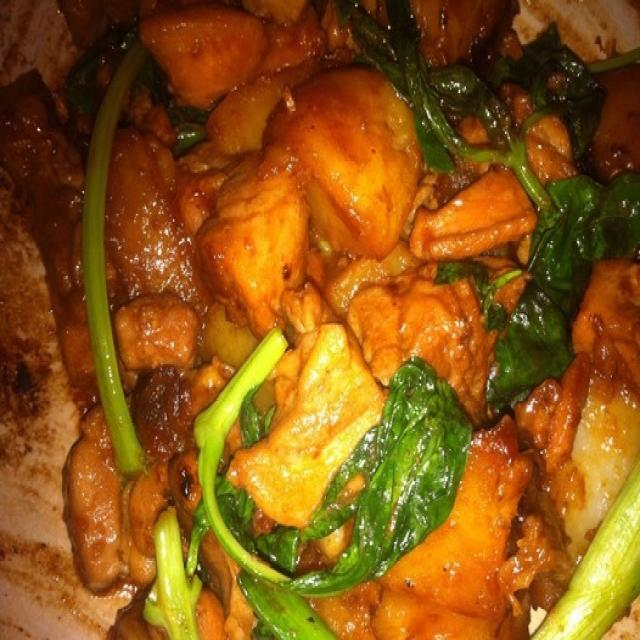鸡肉料理 含炸鸡: (23, 13, 623, 629)
